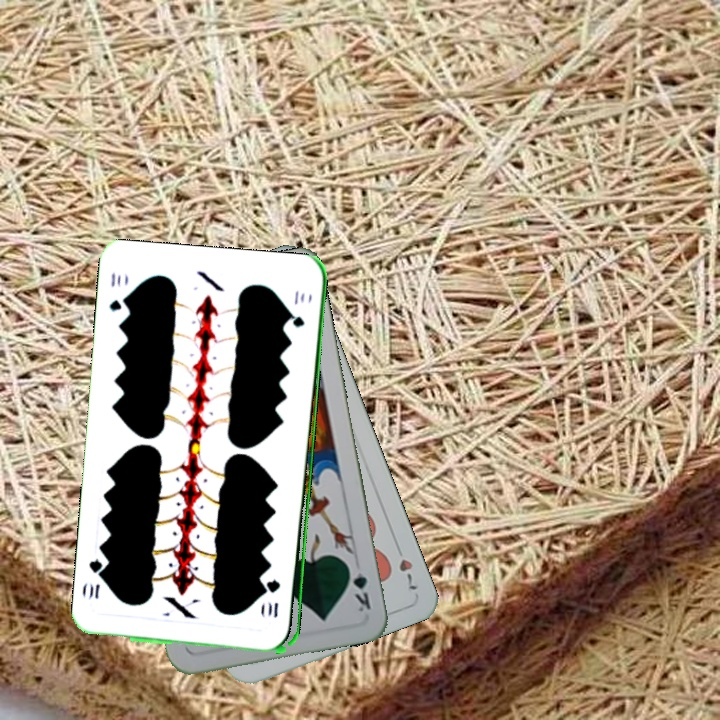G10: (105, 269, 131, 314), (266, 575, 283, 620)
GK: (343, 559, 374, 615)
H7: (391, 539, 421, 593)
